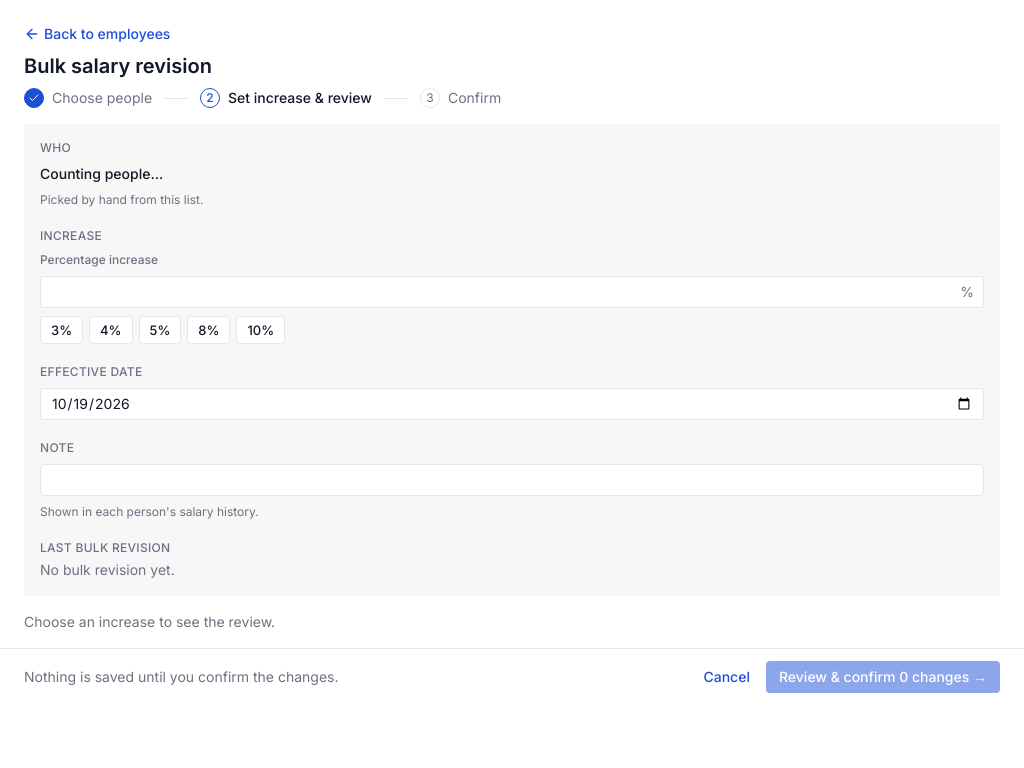
Test case: BulkRevisionPage setup › fills the percentage from a quick button and previews it
Click the button "5%": click(160, 330) [138, 316, 181, 344]
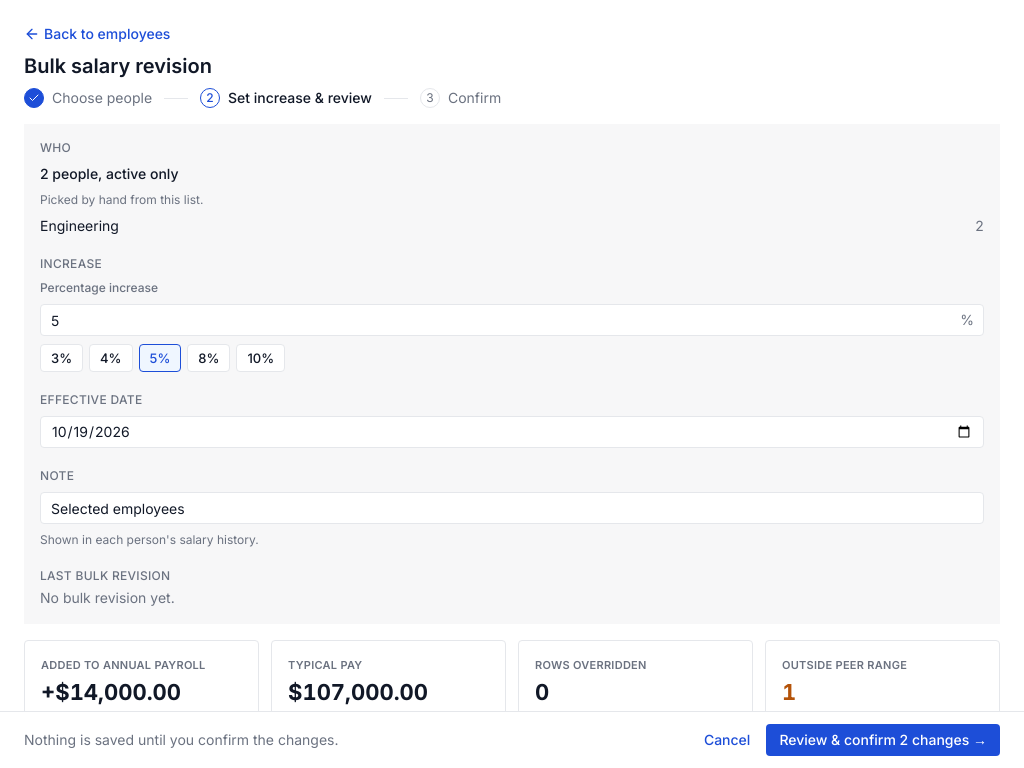
Expected: the field labelled "Percentage increase" holds "5", [40, 304, 984, 336]
